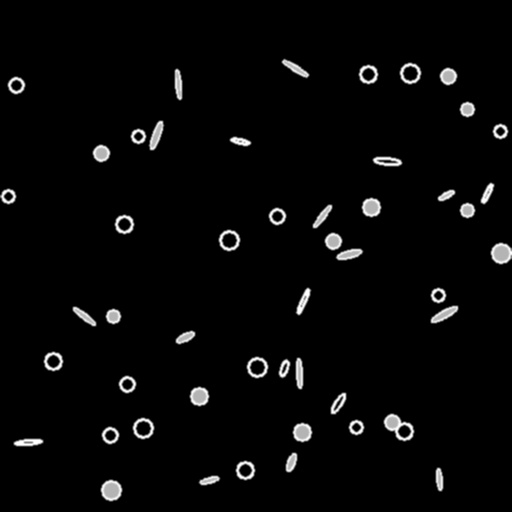pseudomonas: (430, 304, 458, 324), (282, 58, 308, 78), (72, 306, 96, 326), (148, 120, 164, 150), (312, 204, 332, 228), (329, 391, 347, 415), (295, 288, 311, 314), (337, 248, 361, 260), (480, 183, 494, 203), (284, 452, 298, 472), (175, 330, 195, 344), (374, 156, 400, 166), (174, 70, 182, 98), (14, 438, 42, 446), (278, 359, 290, 377), (438, 189, 454, 201), (200, 475, 218, 485), (296, 359, 302, 387), (231, 137, 249, 145), (436, 469, 442, 489)
synechocystis: (134, 419, 152, 437), (102, 481, 120, 499), (401, 64, 419, 82), (248, 358, 266, 376), (220, 231, 238, 249), (492, 244, 510, 262), (363, 199, 379, 215), (191, 388, 207, 404), (360, 66, 376, 82), (396, 423, 412, 439), (294, 424, 310, 440), (116, 216, 132, 232), (45, 353, 61, 369), (237, 462, 253, 478), (94, 146, 108, 160), (9, 78, 23, 92), (120, 377, 134, 391), (103, 428, 117, 442), (326, 234, 340, 248), (441, 69, 455, 83), (270, 209, 284, 223), (385, 415, 399, 429), (432, 289, 444, 301), (107, 310, 119, 322), (2, 190, 14, 202), (132, 130, 144, 142), (461, 204, 473, 216), (494, 125, 506, 137), (350, 421, 362, 433), (461, 103, 473, 115)
